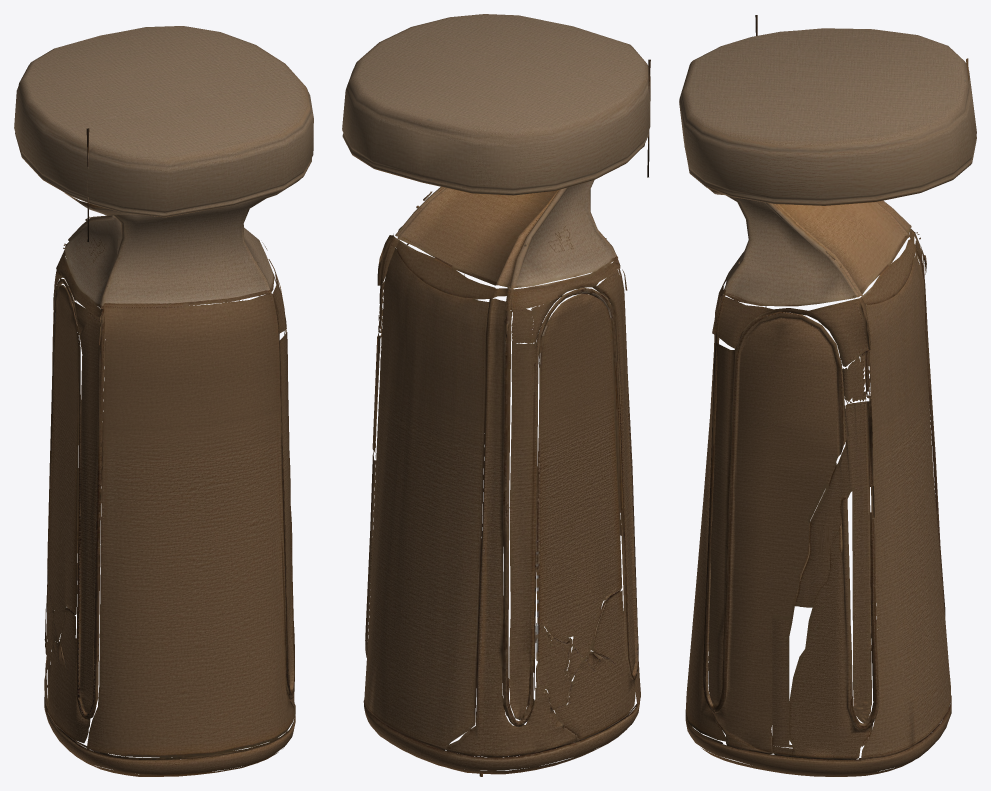
Rendered from lamp_01.glb.
3 renders of one model, left to right at view 1: azimuth 30°, elevation 25°; view 2: azimuth 150°, elevation 25°; view 3: azimuth 270°, elevation 25°, orthographic. The views are drawn at different scales.
Visible parts, largest first — view 1: tripo_part_2, tripo_part_0, tripo_part_1, tripo_part_8, tripo_part_7, tripo_part_6, tripo_part_4, tripo_part_10; view 2: tripo_part_3, tripo_part_0, tripo_part_7, tripo_part_10, tripo_part_1, tripo_part_8, tripo_part_2, tripo_part_6, tripo_part_12, tripo_part_16, tripo_part_18, tripo_part_11 (+1 smaller); view 3: tripo_part_0, tripo_part_4, tripo_part_3, tripo_part_1, tripo_part_11, tripo_part_2, tripo_part_13, tripo_part_14, tripo_part_6, tripo_part_15, tripo_part_10, tripo_part_5.
Part boxes in pixels (<box>): tripo_part_2: <box>56,242,295,757</box>; tripo_part_0: <box>14,26,313,241</box>; tripo_part_1: <box>64,179,300,308</box>; tripo_part_8: <box>47,301,293,759</box>; tripo_part_7: <box>47,279,80,650</box>; tripo_part_6: <box>44,685,295,775</box>; tripo_part_4: <box>259,259,295,716</box>; tripo_part_10: <box>44,297,76,708</box>; tripo_part_3: <box>364,248,489,750</box>; tripo_part_0: <box>342,14,650,195</box>; tripo_part_7: <box>535,288,622,683</box>; tripo_part_10: <box>445,298,576,757</box>; tripo_part_1: <box>395,144,644,288</box>; tripo_part_8: <box>555,261,638,741</box>; tripo_part_2: <box>377,234,640,706</box>; tripo_part_6: <box>363,700,640,770</box>; tripo_part_12: <box>502,310,534,726</box>; tripo_part_16: <box>535,623,572,712</box>; tripo_part_18: <box>511,309,533,343</box>; tripo_part_11: <box>365,449,375,657</box>; tripo_part_0: <box>679,15,976,205</box>; tripo_part_4: <box>708,311,848,754</box>; tripo_part_3: <box>861,253,950,759</box>; tripo_part_1: <box>708,188,911,306</box>; tripo_part_11: <box>789,494,879,759</box>; tripo_part_2: <box>685,227,926,741</box>; tripo_part_13: <box>772,397,874,757</box>; tripo_part_14: <box>852,485,871,722</box>; tripo_part_6: <box>685,695,951,775</box>; tripo_part_15: <box>840,349,871,402</box>; tripo_part_10: <box>915,239,945,615</box>; tripo_part_5: <box>701,748,913,776</box>.
Size of the model in its own units: 0.3919 by 0.9868 by 0.3973.
19 materials, 19 textured.
